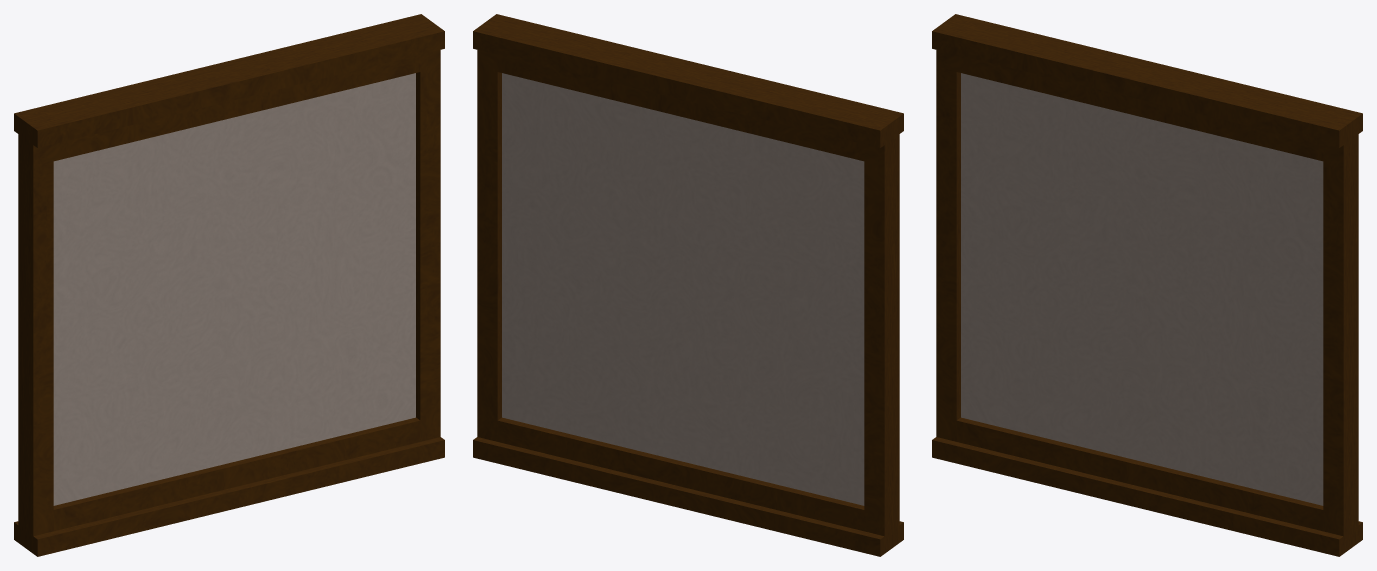
The model's file is Wall.fbx.
3 views of the same model, side by side, from view 1: azimuth 30°, elevation 25°; view 2: azimuth 150°, elevation 25°; view 3: azimuth 330°, elevation 25° (orthographic).
Visible parts, largest first — view 1: Wall; view 2: Wall; view 3: Wall.
Boxes of the visible parts, <box> form: Wall: <box>14,14,444,556</box>; Wall: <box>473,14,903,556</box>; Wall: <box>932,14,1362,556</box>.
Size of the model in its own units: 500 by 500 by 50.
Materials: 2 (2 with a texture image).
